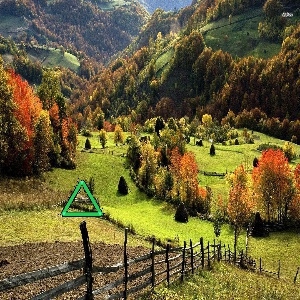triangle: (57, 179, 104, 218)
